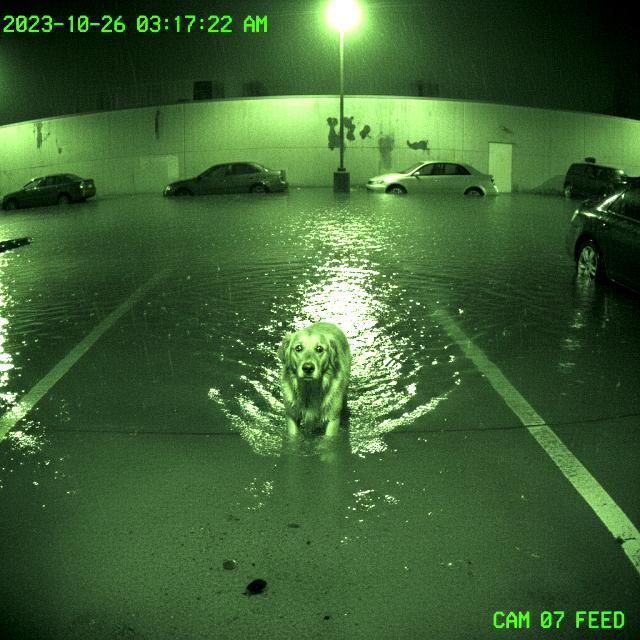dog: (272, 307, 357, 463)
